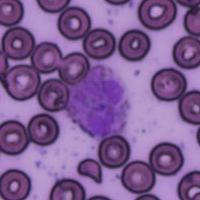E: (66, 62, 132, 141)
